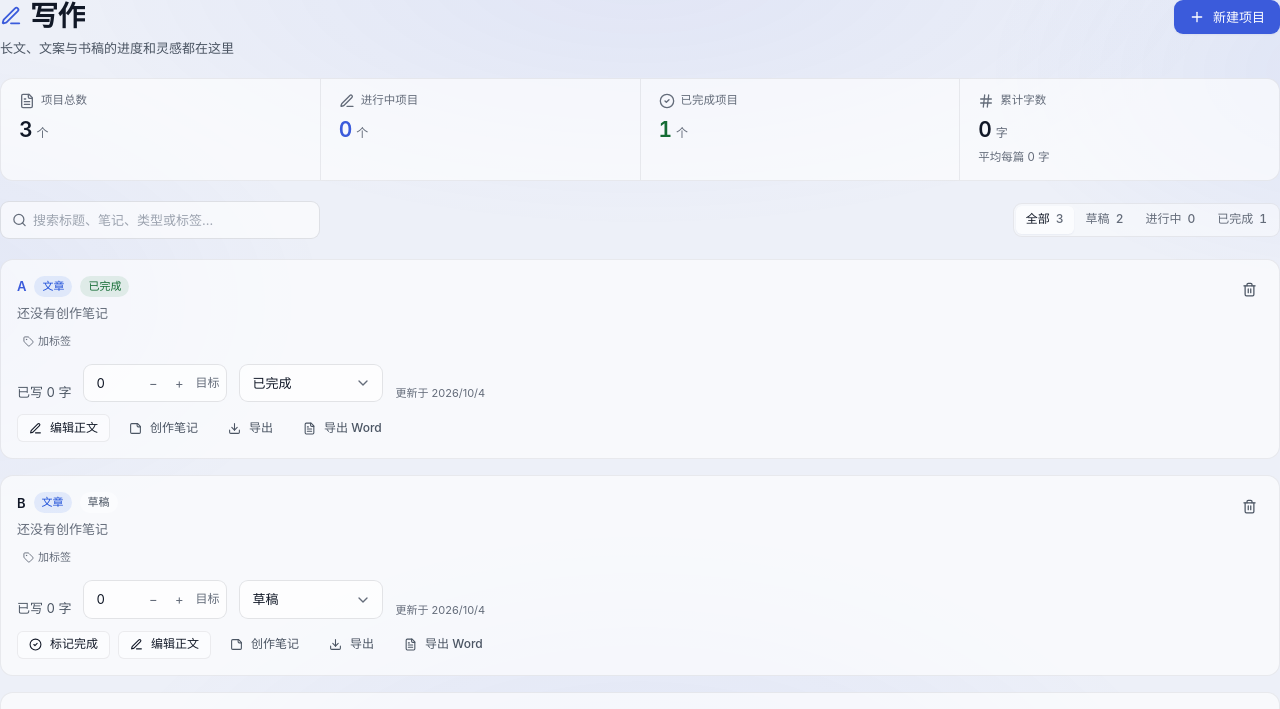
WritingPage › 按状态筛选并显示数量
This screenshot has width=1280, height=709.
Check: the button "全部 3" is shown, box x1=1016 y1=206 x2=1074 y2=234
Click the button "已完成 1" at (1242, 220), box x1=1207 y1=206 x2=1277 y2=234
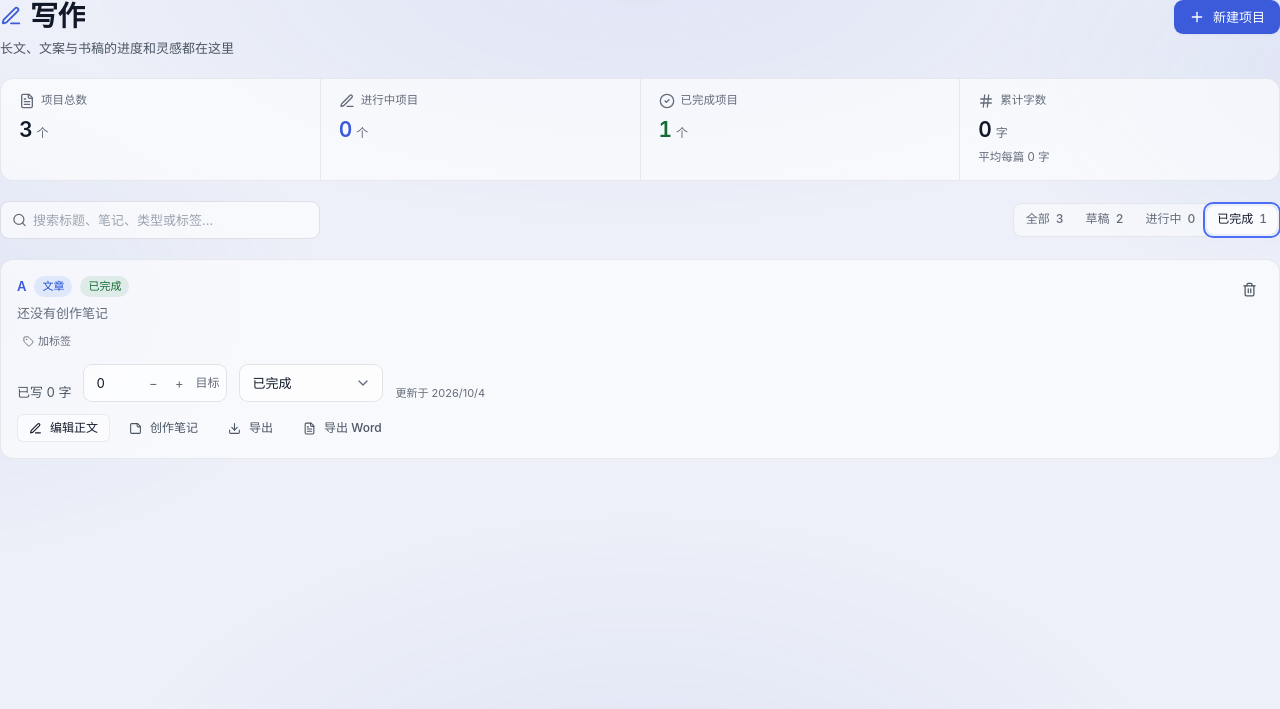
Check: the button "A" is shown, box x1=17 y1=276 x2=26 y2=296
Check: the button "B" is gone
